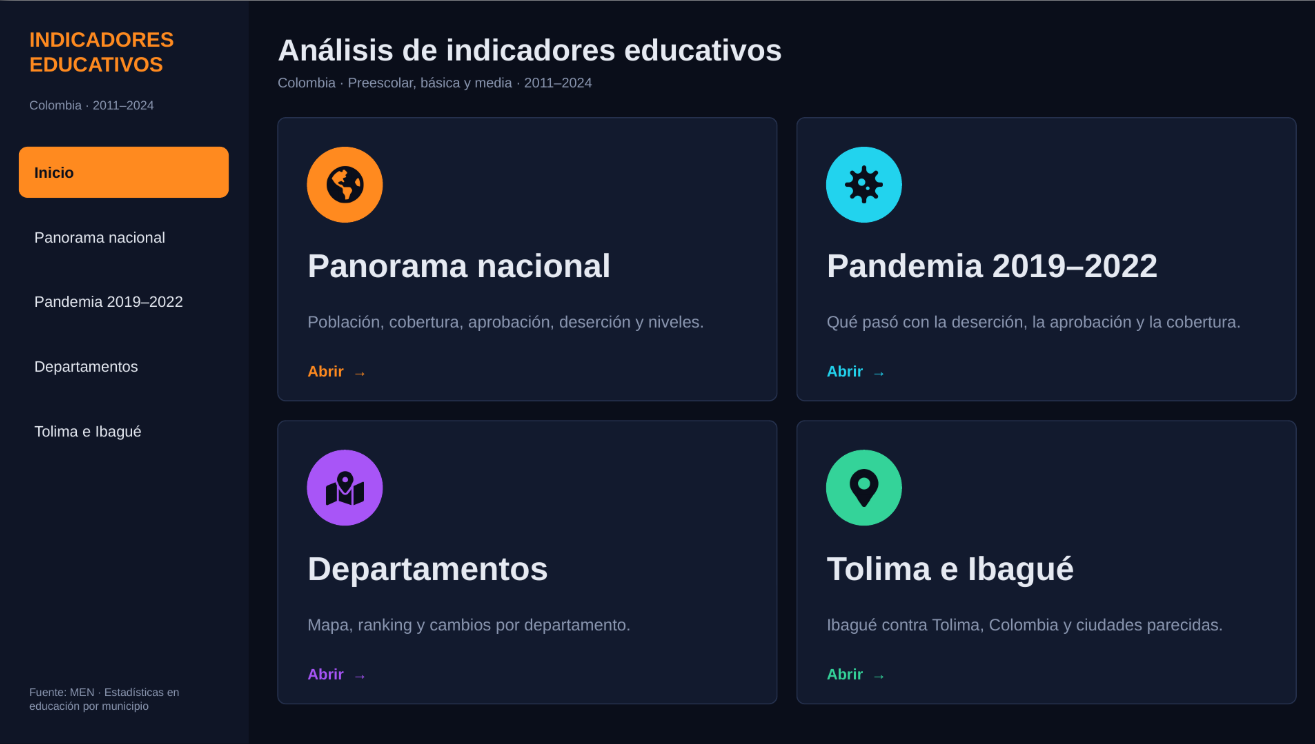

What the dashboard file says about the page in this screenshot:
{"tool":"powerbi","page":{"name":"Presentacion","canvas":[1920,1080],"ordinal":0},"visuals":[{"type":"actionButton","box":[26.1,308.7,306.5,78.3],"z":0},{"type":"actionButton","box":[26.1,387,306.5,93.5],"z":1000},{"type":"actionButton","box":[26.1,480.4,306.5,82.6],"z":2000},{"type":"actionButton","box":[26.1,578.3,306.5,97.8],"z":3000},{"type":"actionButton","box":[414.6,170.2,709.4,407.4],"z":4000},{"type":"actionButton","box":[1157.5,153.4,714.2,424.2],"z":5000},{"type":"actionButton","box":[414.6,606.3,709.4,412.2],"z":6000},{"type":"actionButton","box":[1157.5,606.3,714.2,412.2],"z":7000}]}

Visuals, with their boxes in screenshot pixels (x1, y1, x2, y2), scaled from the page's 1920x1080 canvas onto the 1315x744 screenshot:
actionButton: [18, 213, 228, 267]
actionButton: [18, 267, 228, 331]
actionButton: [18, 331, 228, 388]
actionButton: [18, 398, 228, 466]
actionButton: [284, 117, 770, 398]
actionButton: [793, 106, 1282, 398]
actionButton: [284, 418, 770, 702]
actionButton: [793, 418, 1282, 702]
